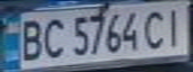4: (121, 7, 145, 52)
5: (66, 12, 90, 57)
6: (103, 8, 127, 54)
7: (84, 10, 106, 55)
B: (15, 16, 45, 62)
C: (39, 15, 69, 61), (139, 7, 169, 51)
I: (160, 5, 190, 48)
